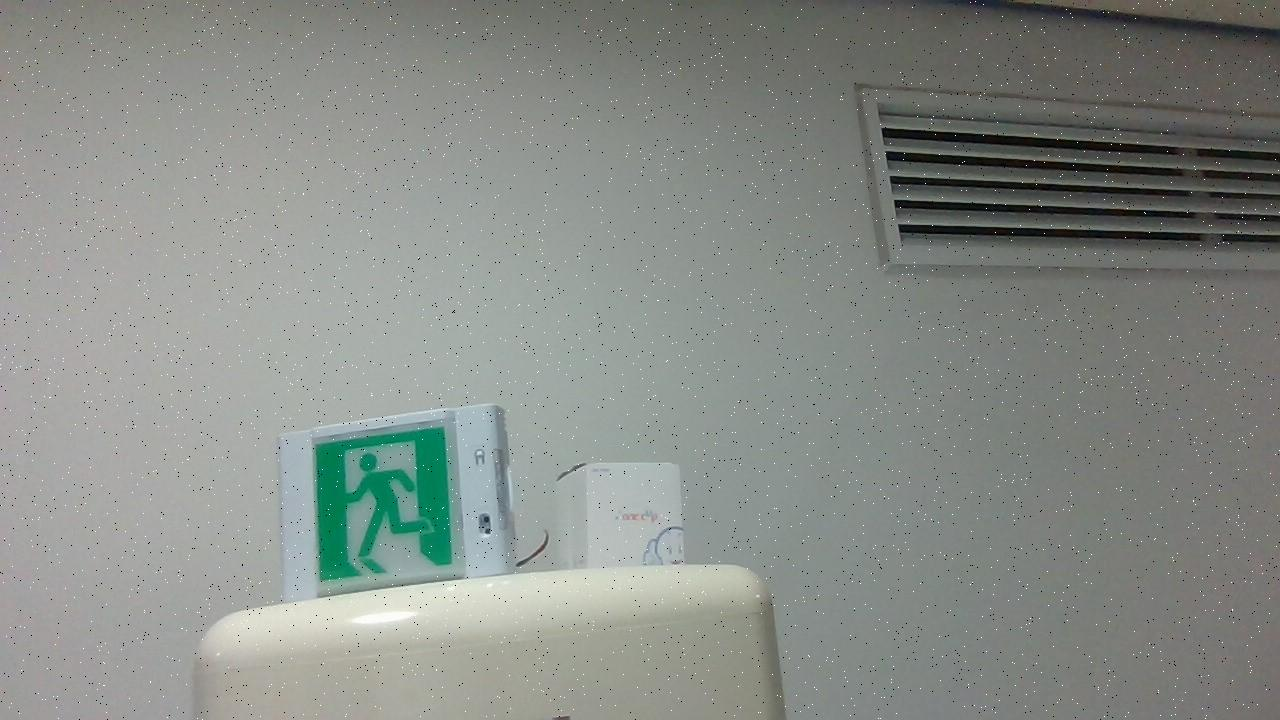emergency_exit: (277, 403, 514, 602)
